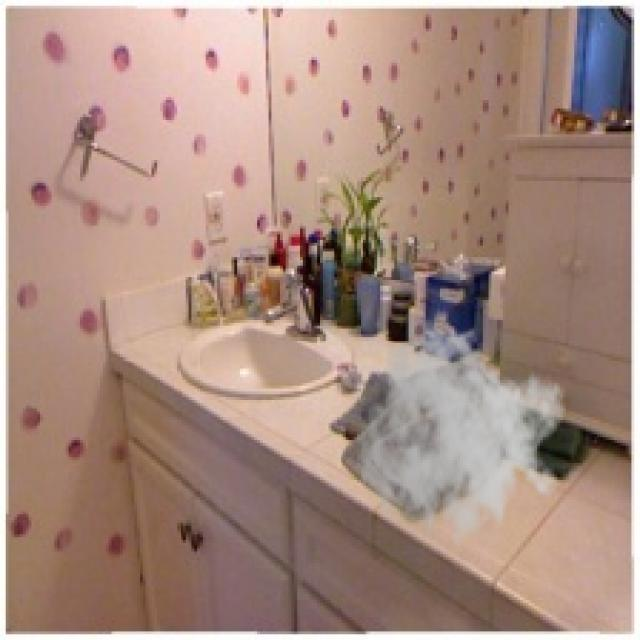smoke: (354, 317, 569, 566)
